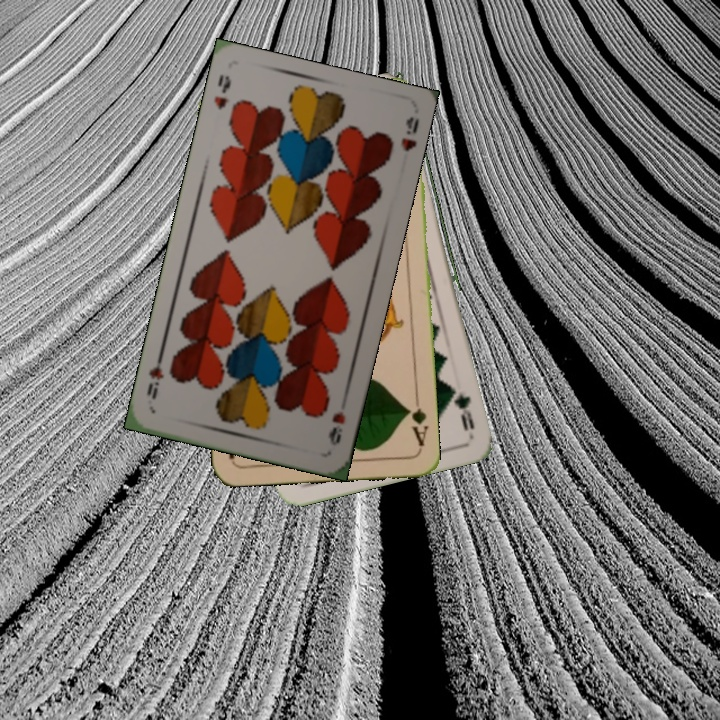G9: (449, 383, 477, 434)
GA: (402, 392, 430, 449)
H9: (210, 70, 234, 112), (324, 407, 348, 448)
